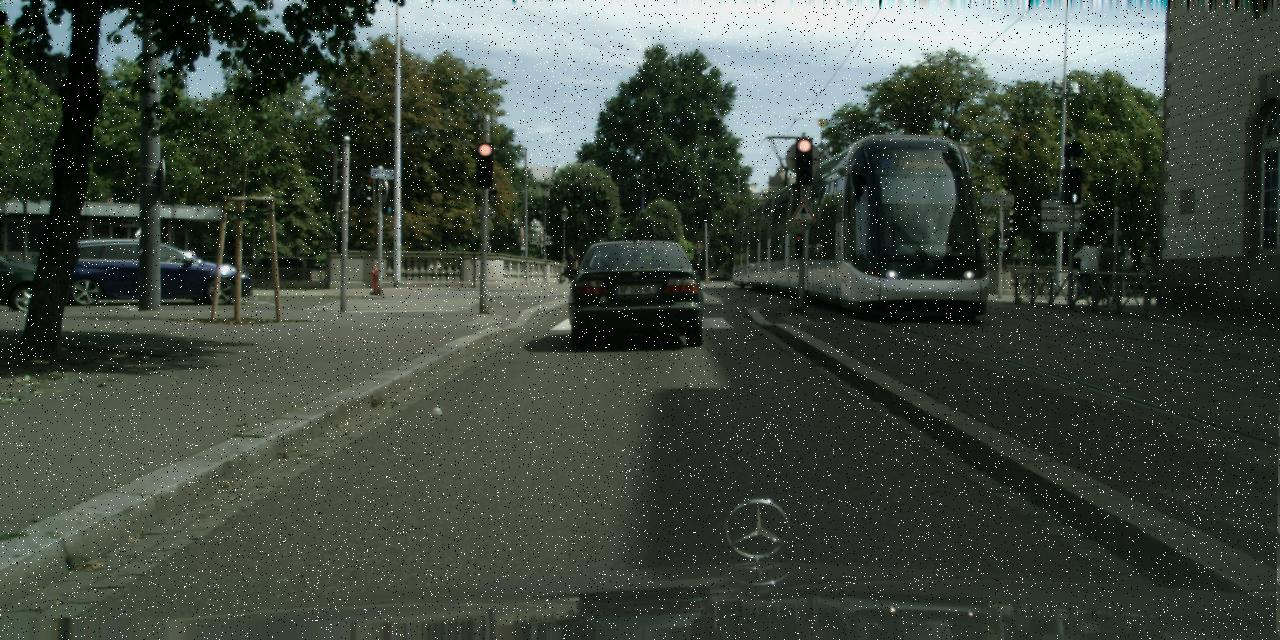ped: (1074, 238, 1099, 299), (1092, 240, 1116, 298), (563, 247, 576, 282)
